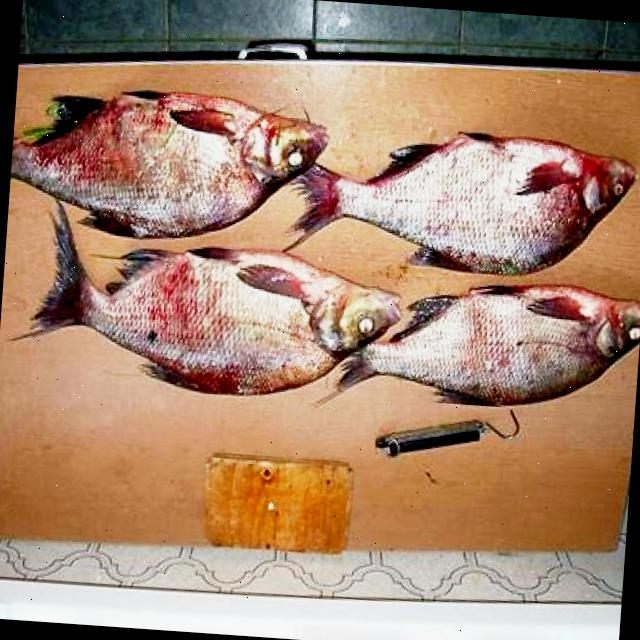Epizootic Ulcerative Syndrome -EUS-: (13, 203, 398, 393), (290, 133, 635, 273), (10, 92, 325, 238), (336, 285, 640, 405)
